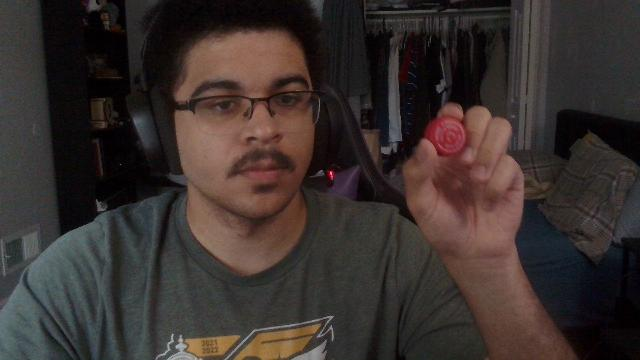cap: (425, 117, 467, 157)
